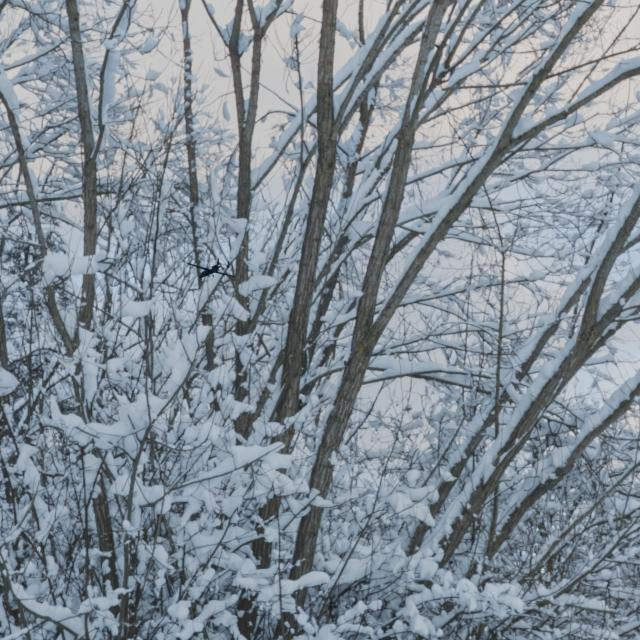Airaplan: (186, 258, 236, 280)
